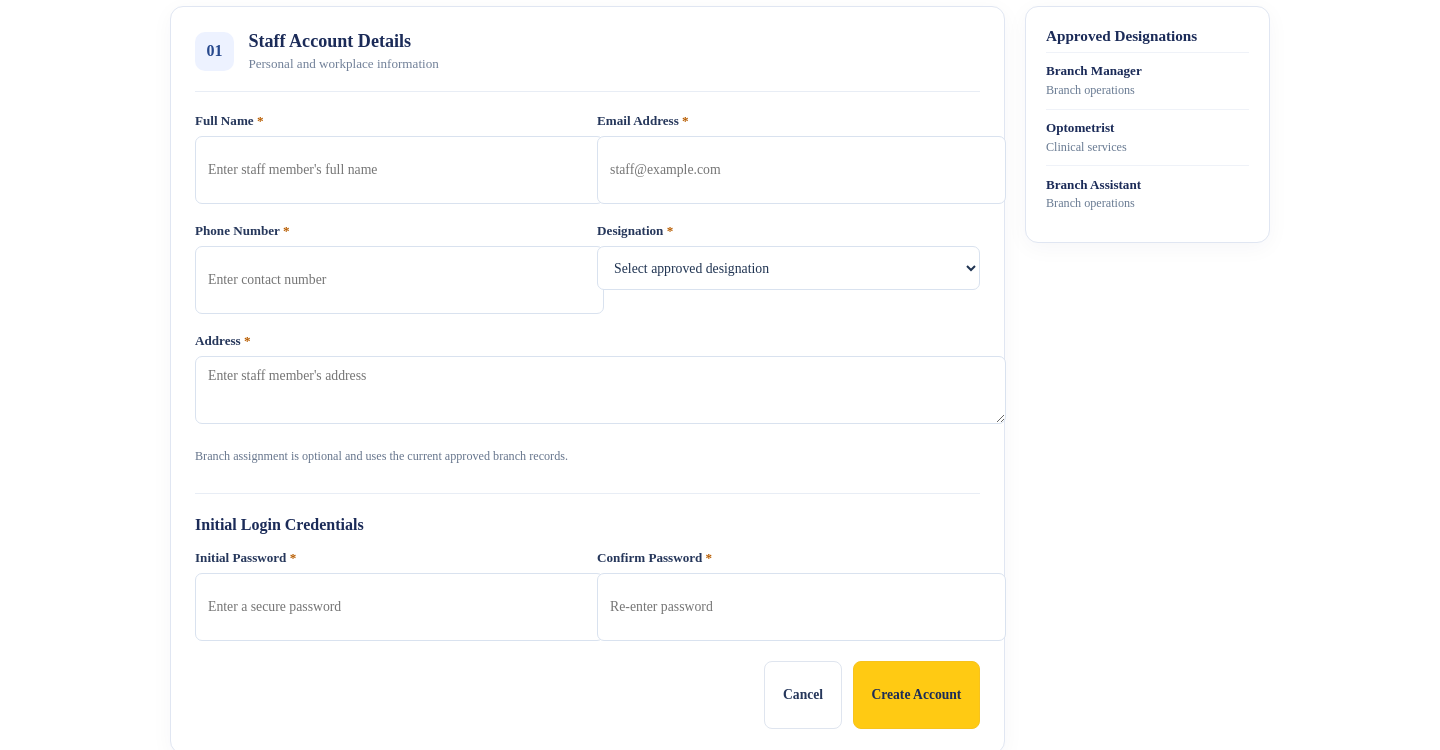
it: AdminStaffCreatePage › validates required fields before attempting to submit
(page scrolled)
Click the button "Create Account" at point(916, 695), box [853,661,980,729]
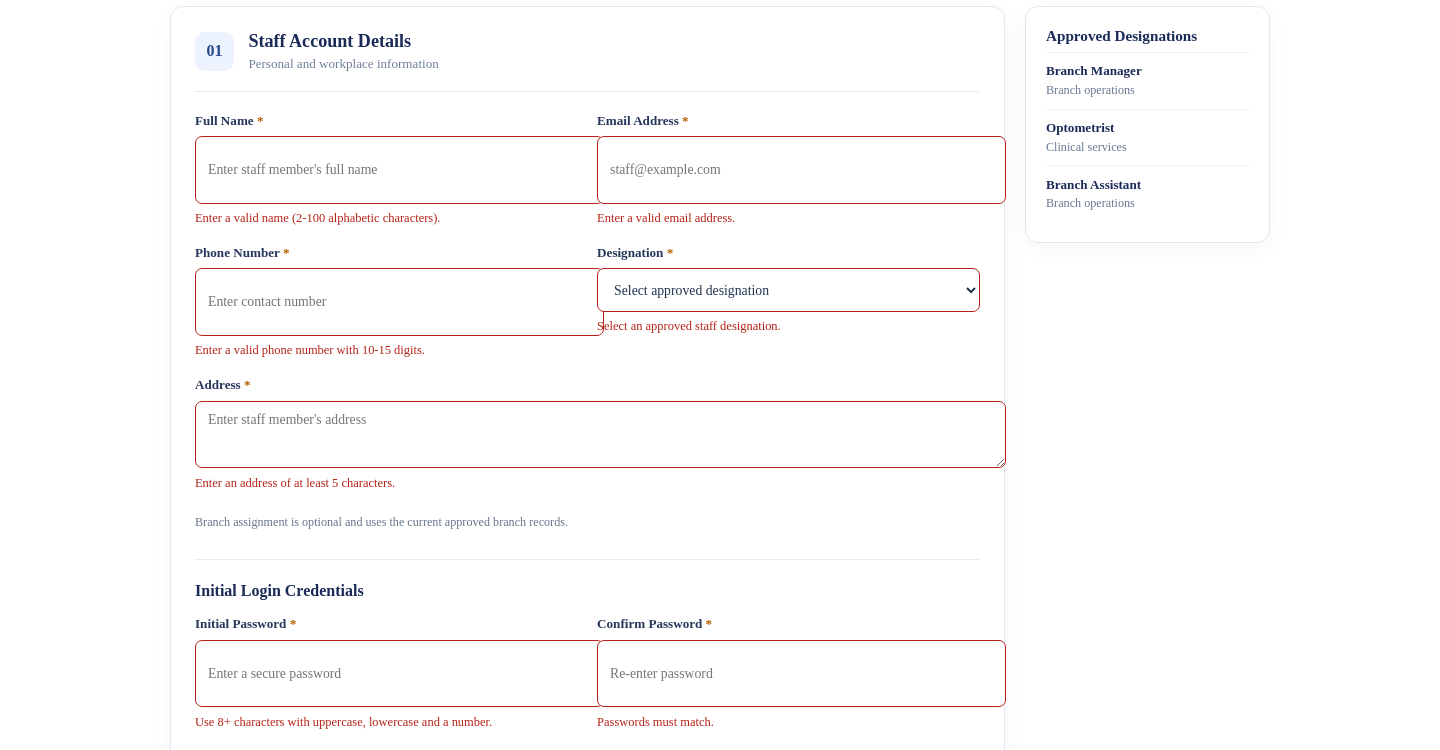
Result: the text "Enter a valid name (2-100 alphabetic characters)." is shown at [195,211,440,225]
